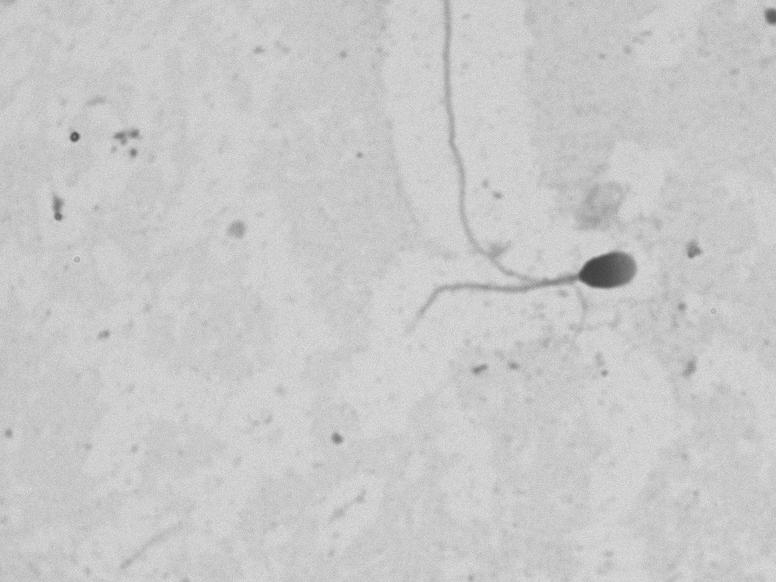Abnormal: (430, 230, 665, 337)
